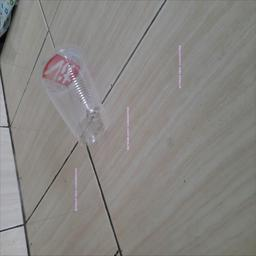plastic: (41, 49, 105, 144)
